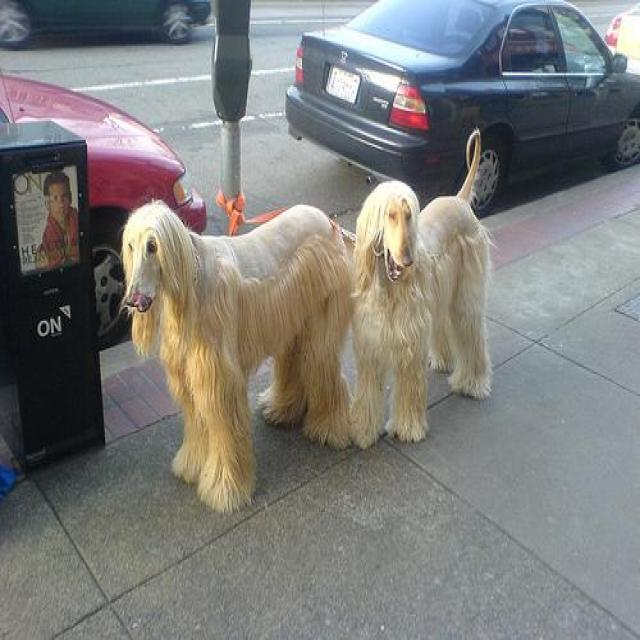afghan_hound: (119, 200, 356, 517), (344, 128, 497, 452)
